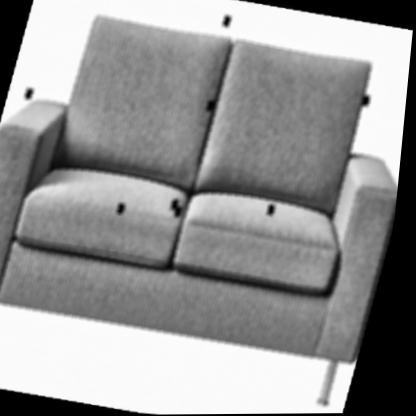Sofa: (0, 8, 415, 352)
